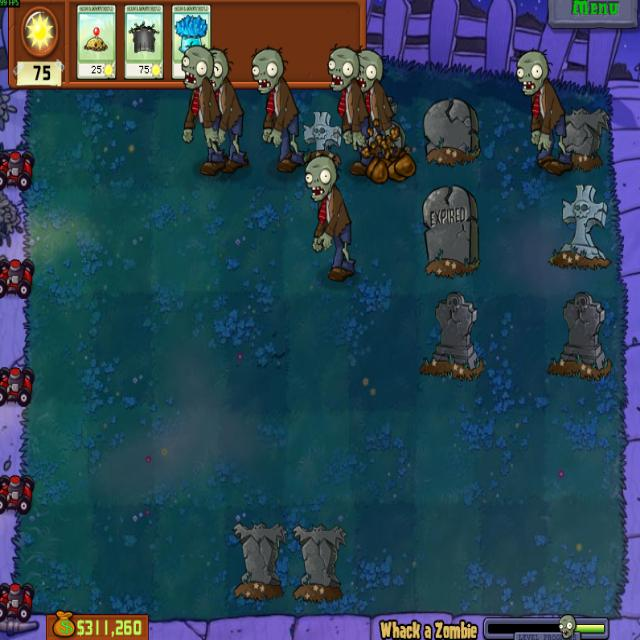grave: (417, 290, 486, 380), (544, 291, 614, 379), (420, 182, 480, 279), (546, 181, 610, 271), (231, 518, 287, 604), (290, 522, 348, 604), (420, 96, 483, 170), (548, 106, 610, 172), (298, 108, 345, 170), (365, 95, 408, 158)
gravebuster: (124, 4, 164, 80)
zombie: (249, 45, 288, 95), (322, 45, 360, 96), (514, 48, 551, 97), (301, 154, 338, 203), (350, 47, 388, 94), (178, 45, 213, 92), (203, 46, 231, 92)
